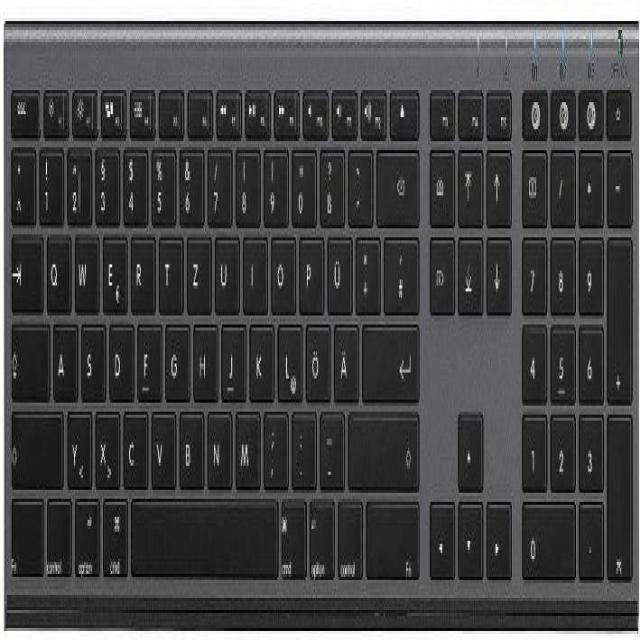0: (290, 142, 315, 223)
1: (36, 142, 62, 223)
2: (64, 139, 90, 223)
3: (92, 139, 118, 223)
4: (121, 142, 146, 223)
5: (149, 142, 174, 223)
6: (177, 142, 202, 223)
7: (206, 142, 230, 223)
8: (233, 142, 259, 223)
9: (263, 148, 289, 229)
a: (51, 316, 76, 400)
accent: (346, 142, 372, 223)
ae: (332, 316, 358, 400)
alt-left: (74, 493, 99, 574)
altgr-right: (307, 490, 333, 577)
b: (177, 403, 203, 484)
c: (121, 403, 146, 484)
caret: (9, 142, 33, 223)
comma: (262, 403, 287, 484)
d: (107, 316, 133, 397)
del: (374, 142, 419, 223)
e: (100, 226, 126, 310)
enter: (360, 316, 419, 400)
f: (135, 316, 161, 397)
g: (163, 316, 189, 397)
h: (191, 316, 217, 397)
hash: (382, 229, 419, 313)
i: (241, 232, 267, 313)
j: (219, 316, 245, 397)
k: (247, 316, 273, 397)
keyboard: (1, 12, 639, 631)
l: (275, 316, 301, 400)
m: (233, 403, 259, 487)
minus: (318, 406, 343, 484)
n: (205, 403, 231, 487)
o: (269, 235, 295, 316)
oe: (304, 316, 330, 400)
p: (297, 229, 322, 310)
plus: (353, 229, 379, 310)
point: (290, 403, 315, 484)
q: (44, 226, 70, 310)
r: (128, 229, 154, 310)
s: (78, 316, 104, 397)
shift-left: (8, 403, 62, 484)
shift-lock: (9, 316, 50, 400)
shift-right: (347, 403, 418, 490)
space: (128, 490, 277, 574)
ss: (318, 142, 343, 223)
strg-left: (45, 493, 72, 577)
strg-right: (336, 493, 362, 580)
t: (156, 229, 182, 310)
tab: (9, 226, 41, 310)
u: (212, 229, 238, 310)
ue: (325, 229, 351, 313)
v: (149, 403, 174, 484)
w: (72, 226, 98, 310)
x: (93, 403, 118, 484)
y: (65, 403, 91, 484)
z: (184, 226, 210, 310)
